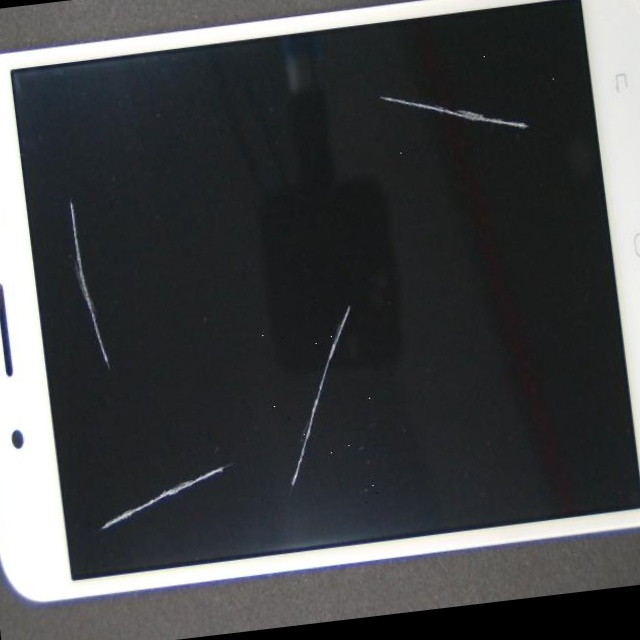scratch: (164, 20, 517, 561), (136, 13, 555, 196)
